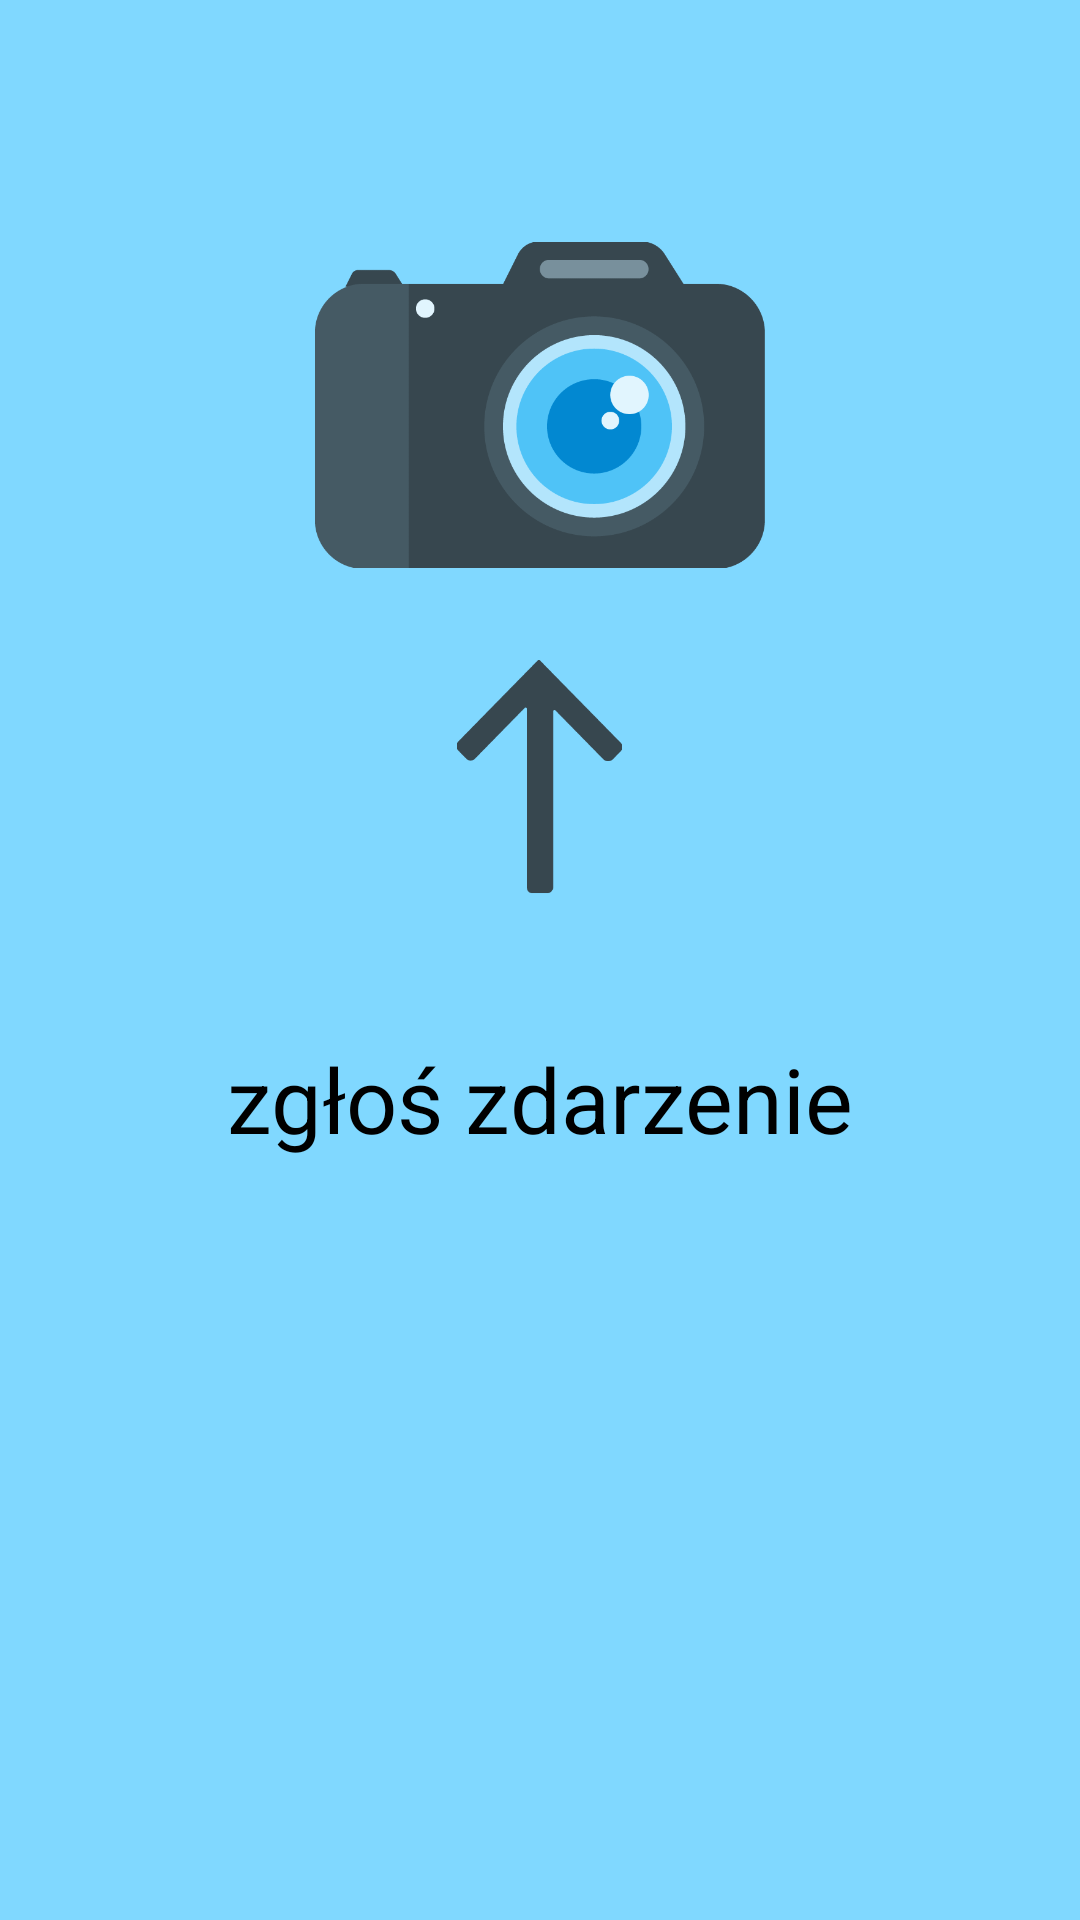

Named icons in this screenshot (1080 × 1920) and their centers, [x,y]:
arrow up: [539,776]
